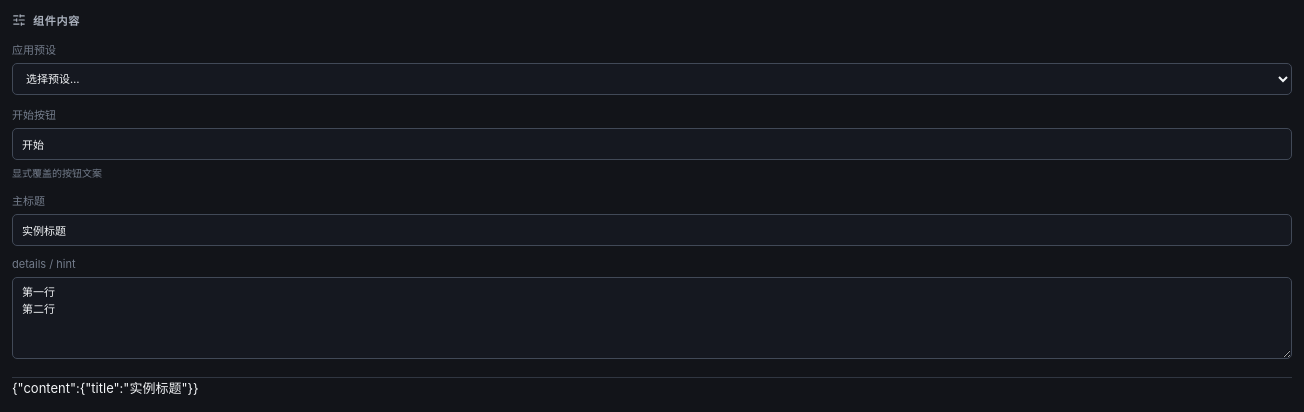
it: ComponentPropertiesEditor › auto-renders and persists every nested content string with explicit overrides
Expected: the number of fields labelled "主标题" is 1, [12,214,1292,246]
Expected: the field labelled "主标题" holds "实例标题", [12,214,1292,246]
Replace the text in the field labelled "开始按钮 显式覆盖的按钮文案" with "立即开始" at (652, 144), box [12,128,1292,160]
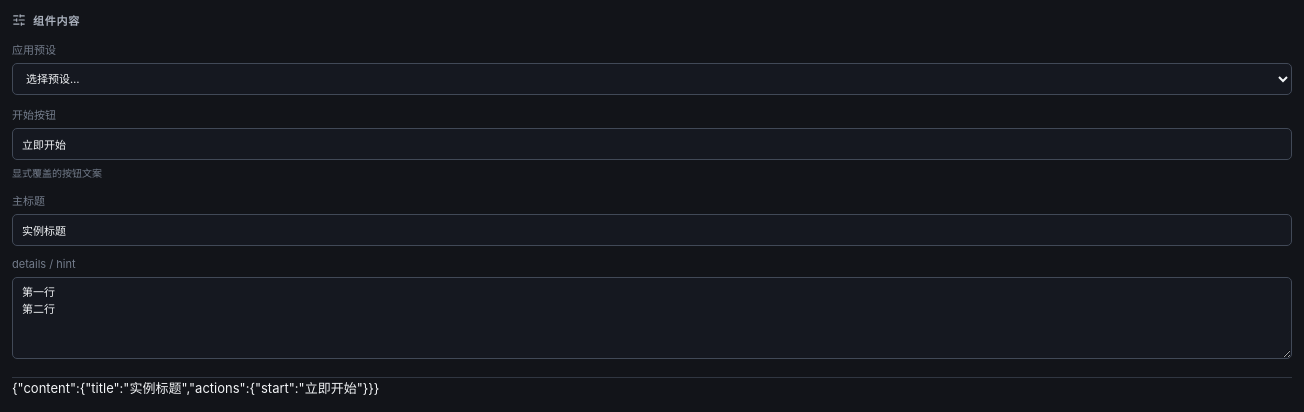
Expected: the field labelled "主标题" holds "实例标题", [12,214,1292,246]
Expected: the text with test id "nested-props-value" shows "\"actions\":{\"start\":\"立即开始\"}", [12,380,379,396]
